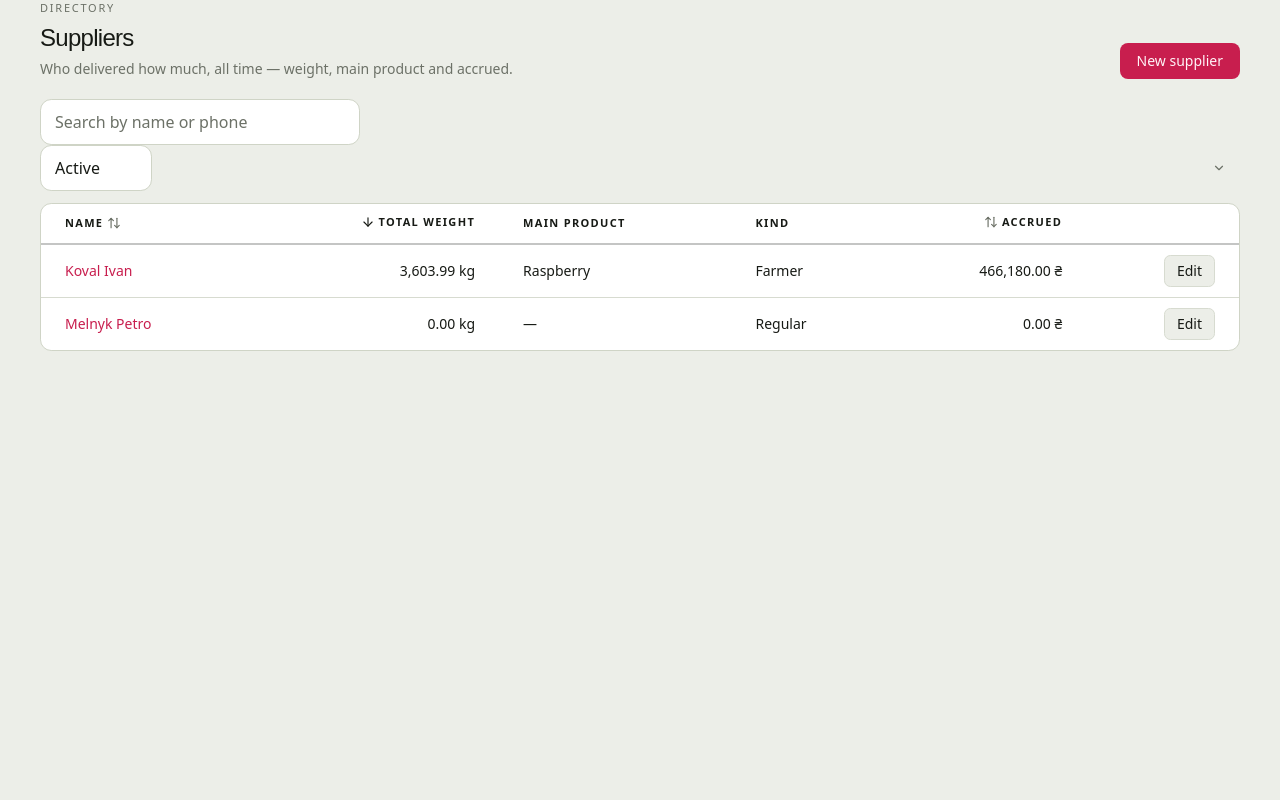
Scenario: SuppliersPage › Edit opens the dialog with that supplier's data and never the card
Click the button with aria-label "Edit Melnyk Petro".
click(1189, 324)  # box [1164,308,1215,340]
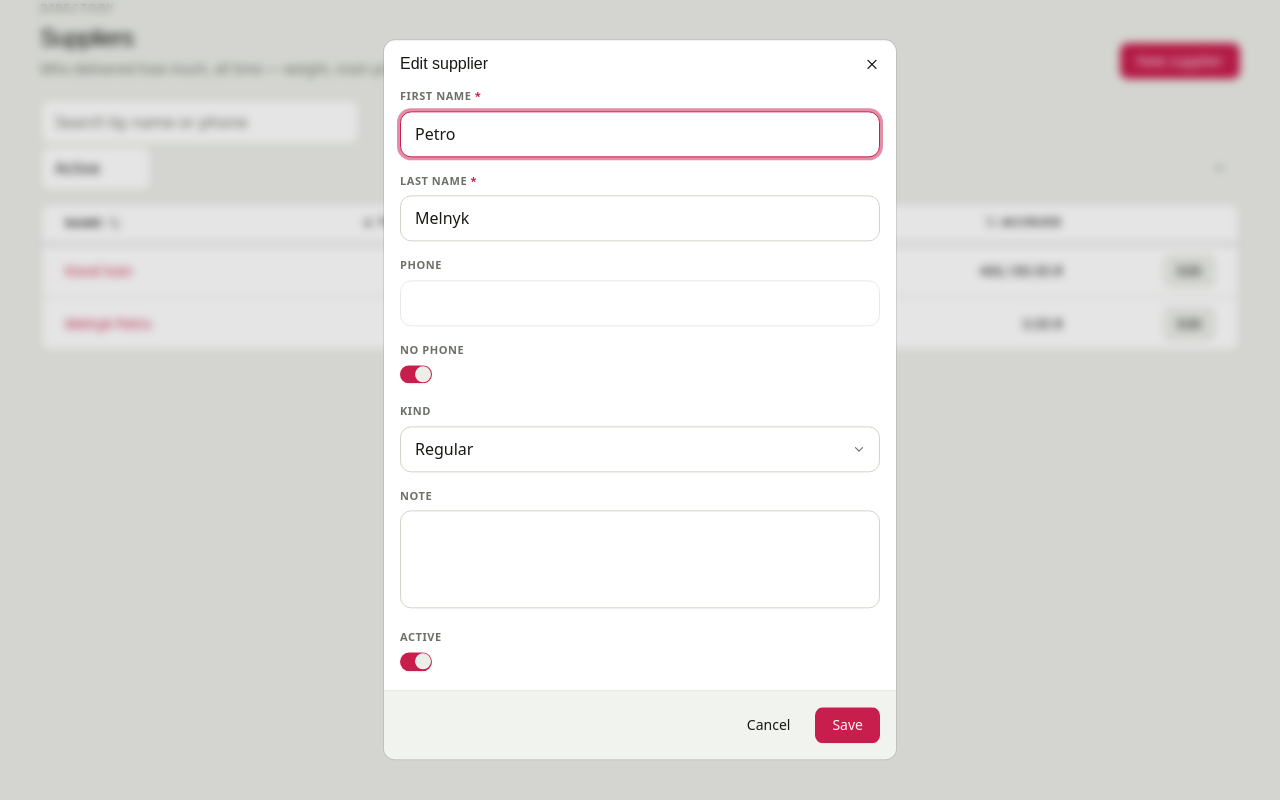
Expected: the heading "Suppliers" is shown, [40,24,134,50]
Result: the field labelled "First name" holds "Petro" at [400,111,880,157]
Result: the field labelled "Last name" holds "Melnyk" at [400,196,880,242]
